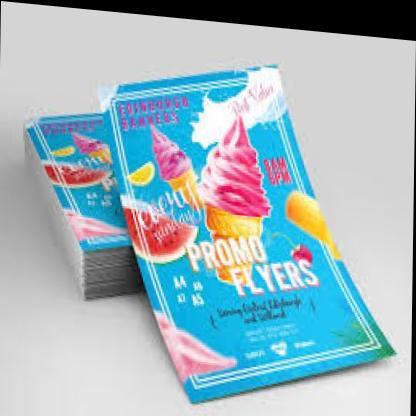Paper: (15, 21, 402, 414)
